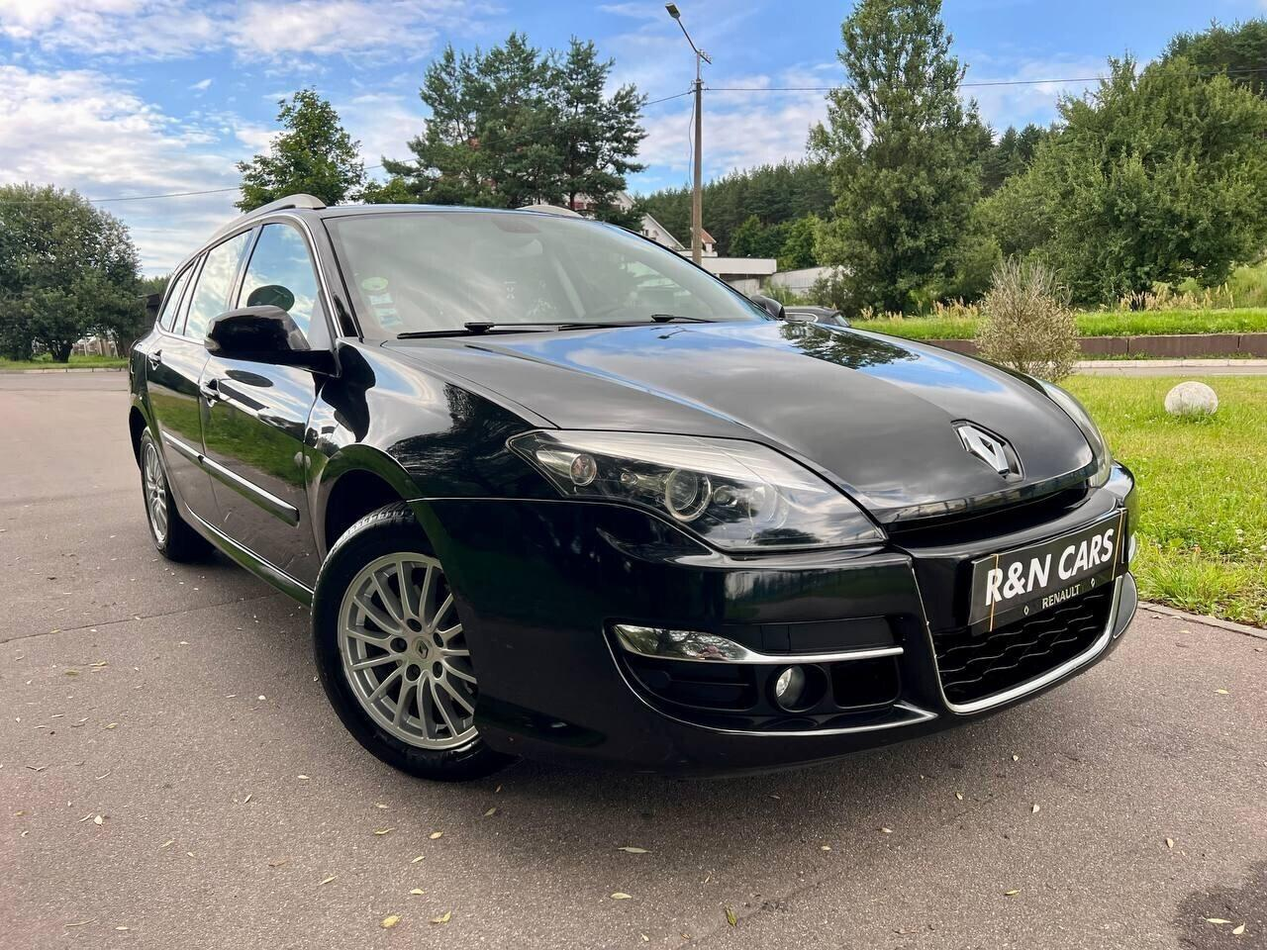Laguna_2010-2015: (118, 192, 1152, 787)
